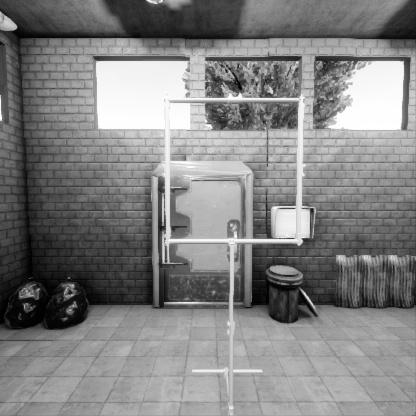gate: (162, 177, 313, 327)
